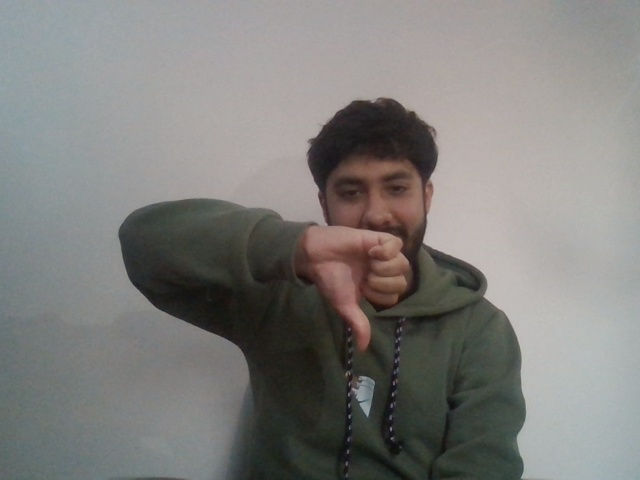No: (313, 219, 417, 355)
